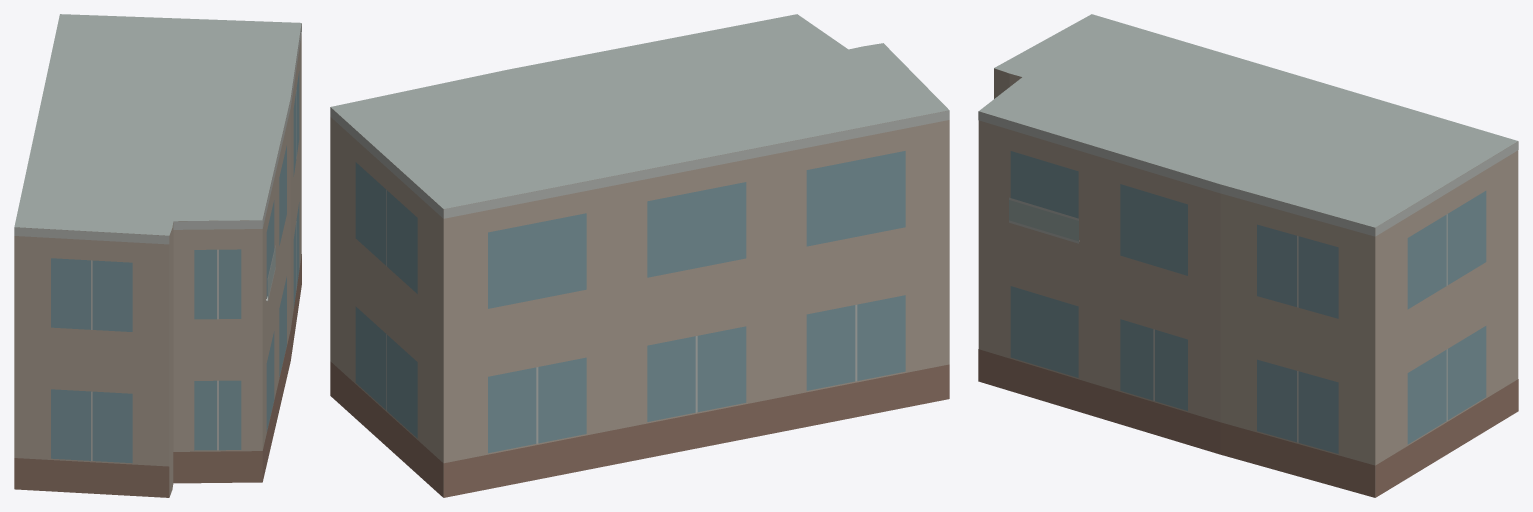
File: survey-upis-32528539.glb
The picture shows the model from 3 angles, left to right: view 1: azimuth 30°, elevation 25°; view 2: azimuth 150°, elevation 25°; view 3: azimuth 270°, elevation 25°; orthographic projection. The views are drawn at different scales.
Visible parts, largest first — view 1: survey-upis-32528539.tmp; view 2: survey-upis-32528539.tmp; view 3: survey-upis-32528539.tmp.
Part boxes in pixels (x1,y1,x2,y2): survey-upis-32528539.tmp: [14, 14, 301, 497]; survey-upis-32528539.tmp: [330, 14, 949, 497]; survey-upis-32528539.tmp: [978, 14, 1518, 497].
Size of the model in its own units: 12.39 by 7.3 by 13.23.
